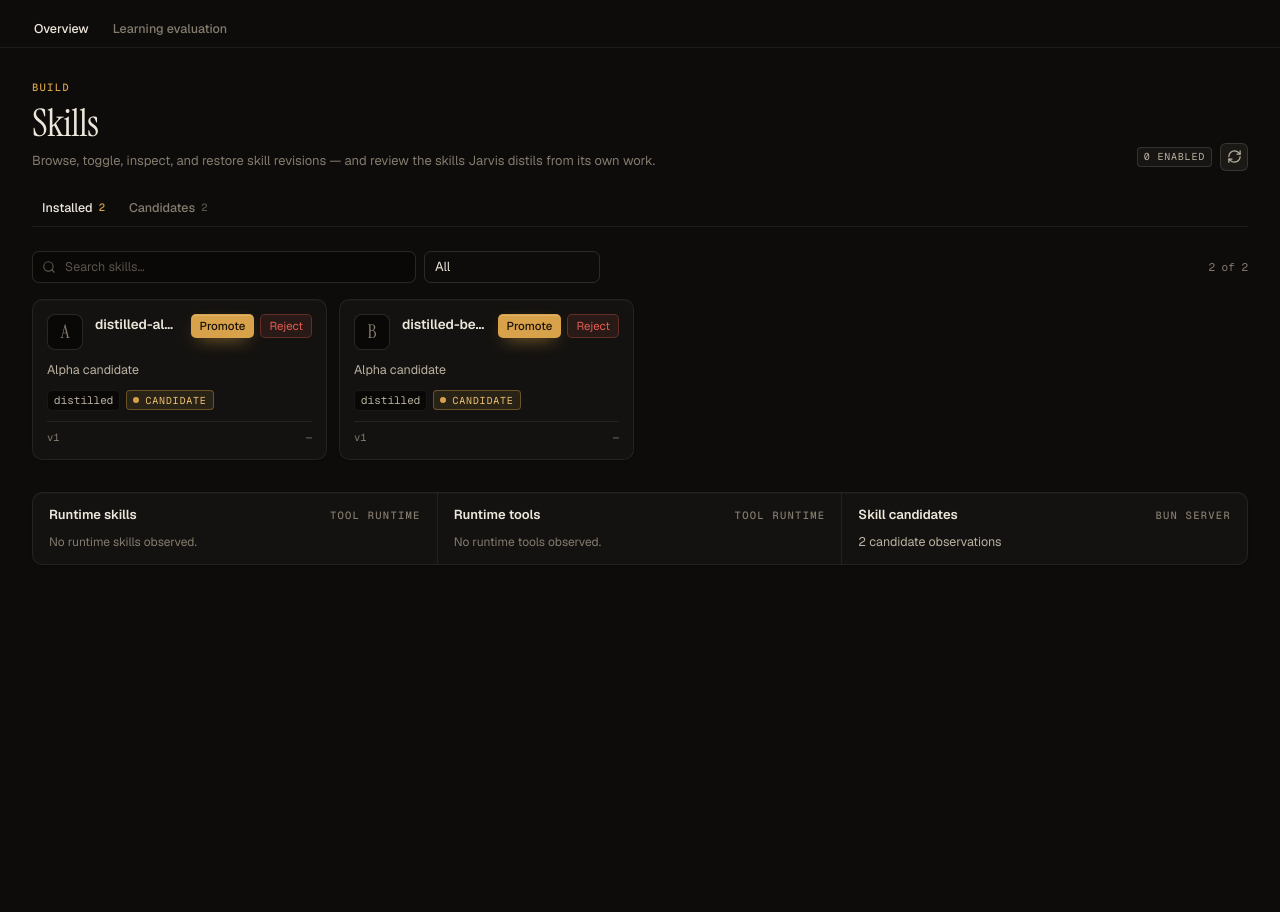
Test: SkillsPage distilled candidate lifecycle coordination › retains the confirmed candidate after a rejected write and retries the write
Check: the button with aria-label "Inspect skill: distilled-alpha" is shown, box x1=95 y1=314 x2=179 y2=334
Check: the button with aria-label "Inspect skill: distilled-beta" is shown, box x1=402 y1=314 x2=486 y2=334
Click the 1st button "Reject" at (286,326), box x1=260 y1=314 x2=312 y2=338
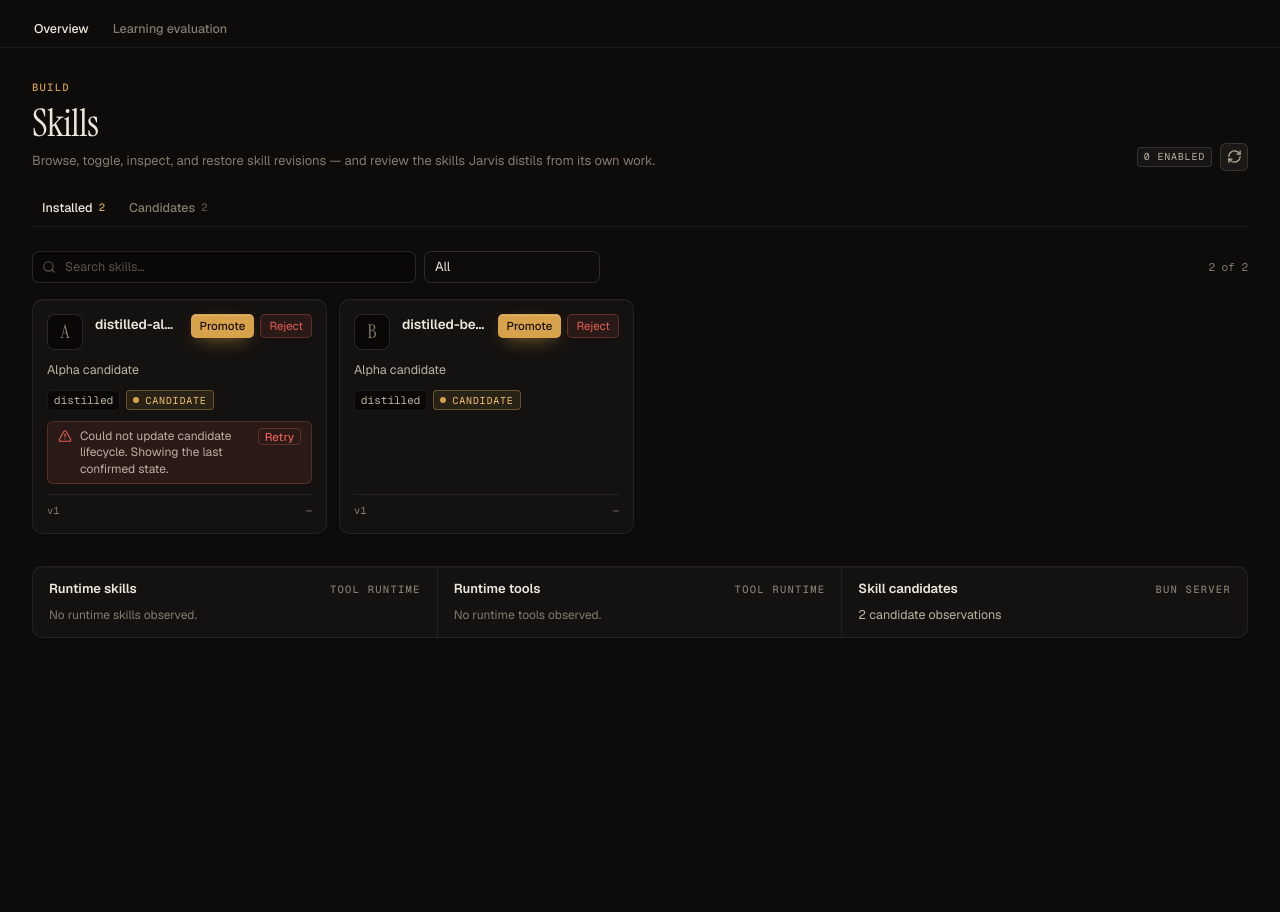
Check: the message shows "Could not update candidate lifecycle.", box x1=80 y1=428 x2=232 y2=477
Click the button "Retry" at (279,436), box x1=258 y1=428 x2=301 y2=445
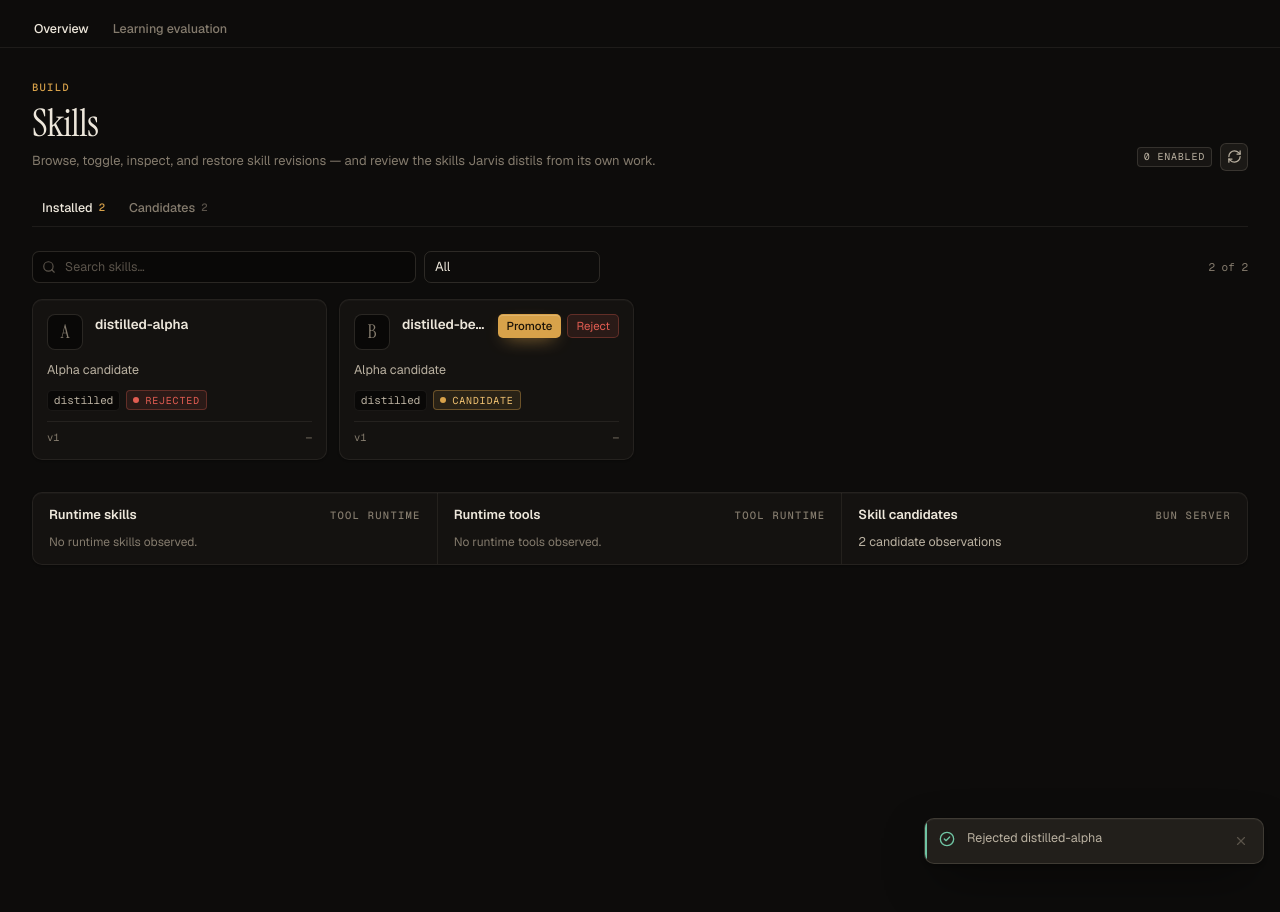
Check: the text "Rejected distilled-alpha" is shown, box x1=967 y1=829 x2=1102 y2=846
